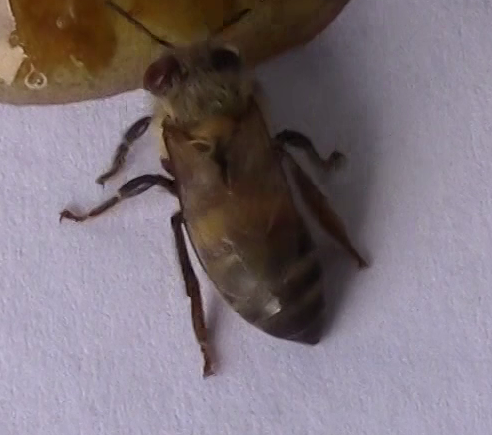Varroa destructor: (141, 53, 186, 95)
